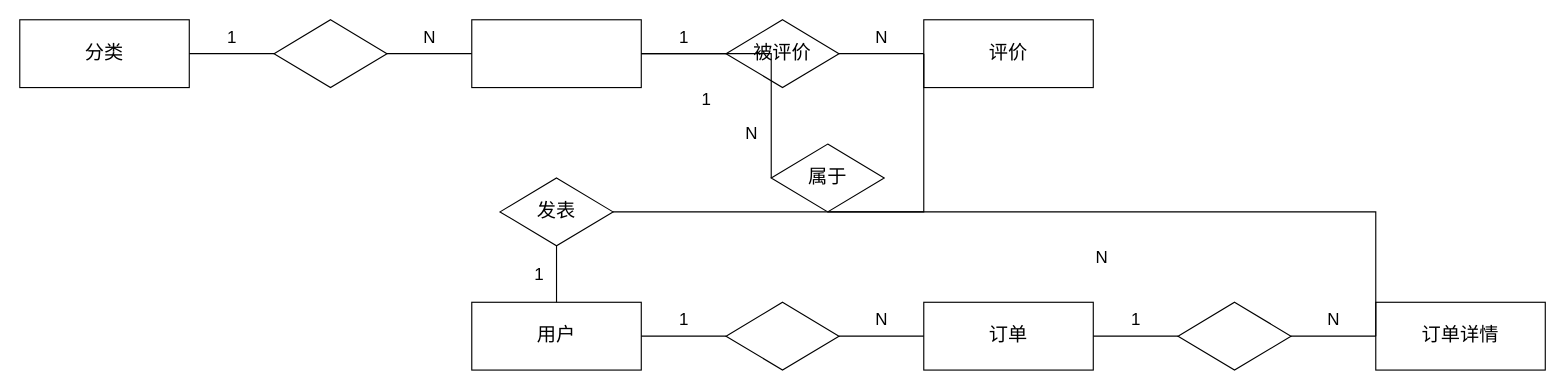
The diagram is 1565 pixels wide and 390 high, and some of its shapes have lost their labels. The centre of each missing label's shape, as x and y in pixels:
创建: pixel 782 335
包含: pixel 1234 335
商品: pixel 556 53
归类: pixel 330 53
